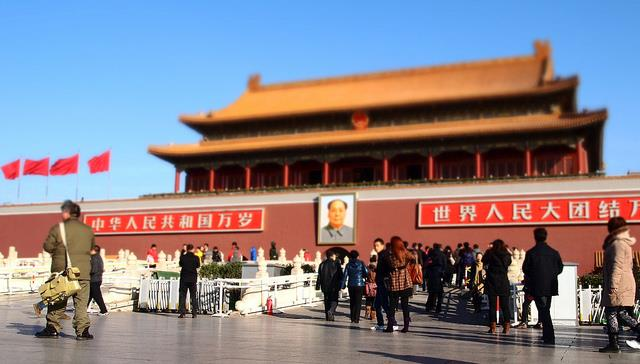Tiananmen: (1, 38, 635, 268)
